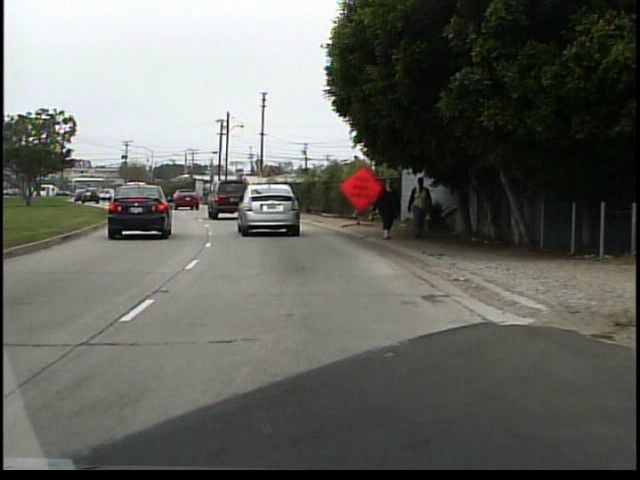person: (366, 172, 404, 246), (403, 176, 431, 243)
